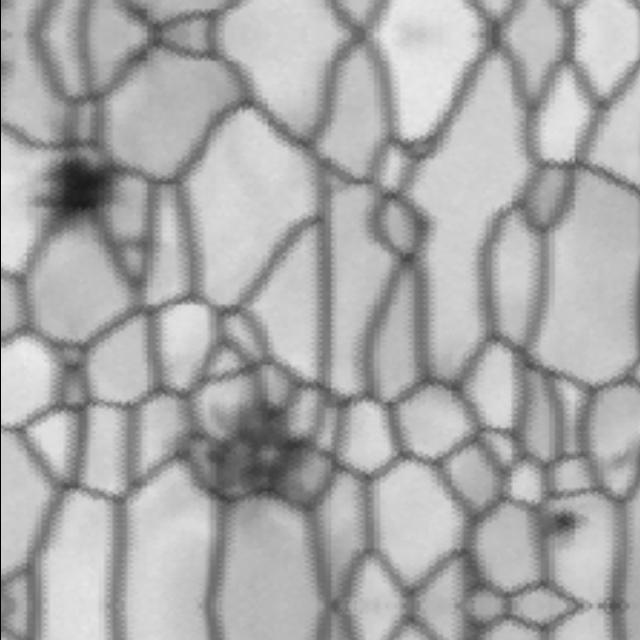good_void: (165, 382, 326, 521), (21, 139, 137, 237), (545, 500, 596, 540)
